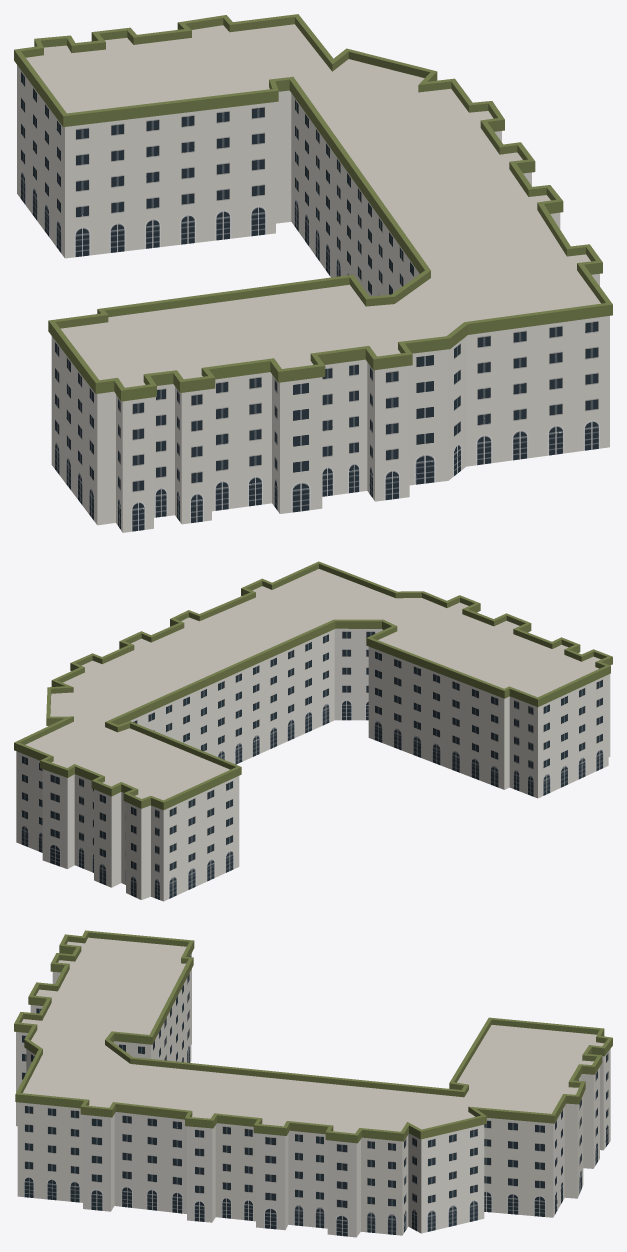
File: pb_aptblock.glb
The picture shows the model from 3 angles, top to bottom: view 1: azimuth 30°, elevation 25°; view 2: azimuth 150°, elevation 25°; view 3: azimuth 270°, elevation 25°; orthographic projection. The views are drawn at different scales.
Parts seen in each view (by area): view 1: pb_aptblock_lod0; view 2: pb_aptblock_lod0; view 3: pb_aptblock_lod0.
Boxes of the visible parts, <box> form: pb_aptblock_lod0: <box>14,14,612,532</box>; pb_aptblock_lod0: <box>14,561,612,901</box>; pb_aptblock_lod0: <box>14,930,612,1237</box>.
Size of what is drawn, in the model's own units: 67.6 by 15.8 by 83.41.
Materials: 4 (2 with a texture image).
